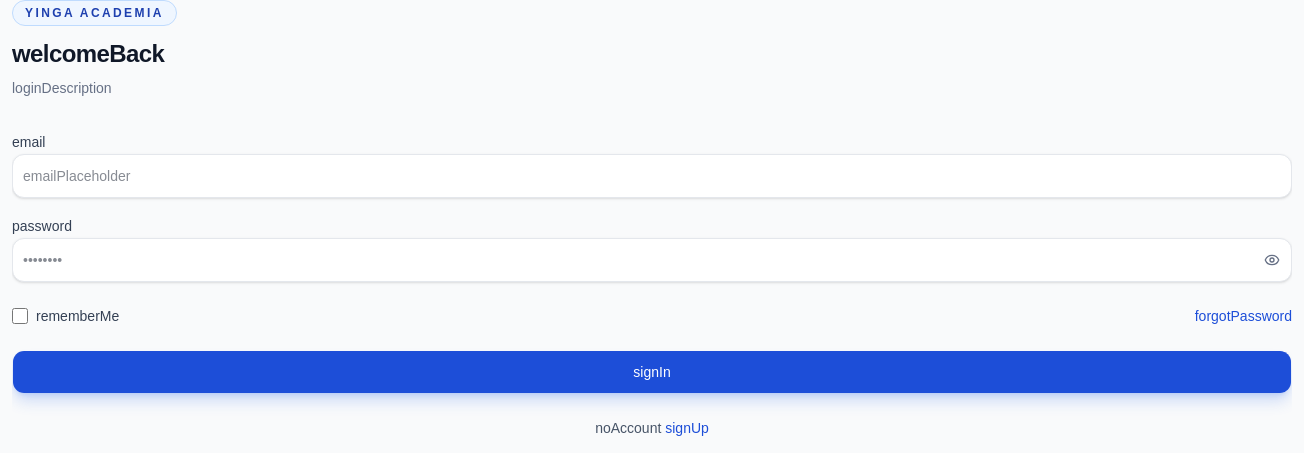
Test case: SignInForm › disables the submit button while a login request is in-flight
In the field with placeholder "emailPlaceholder": (652, 176) [12,154,1292,198], type "a@b.com"
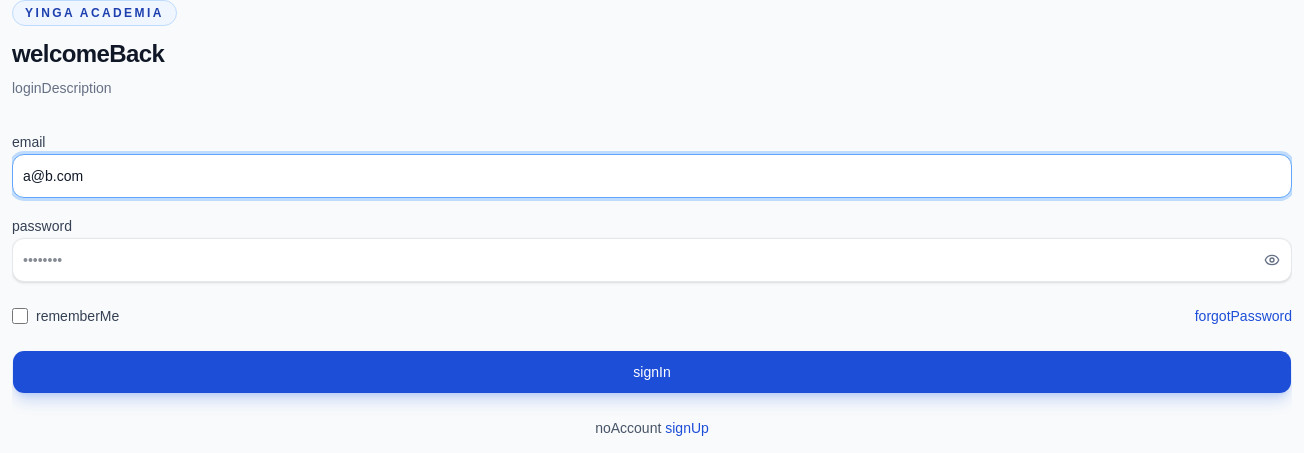
In the password field with placeholder "••••••••": (652, 260) [12,238,1292,282], type "pass"
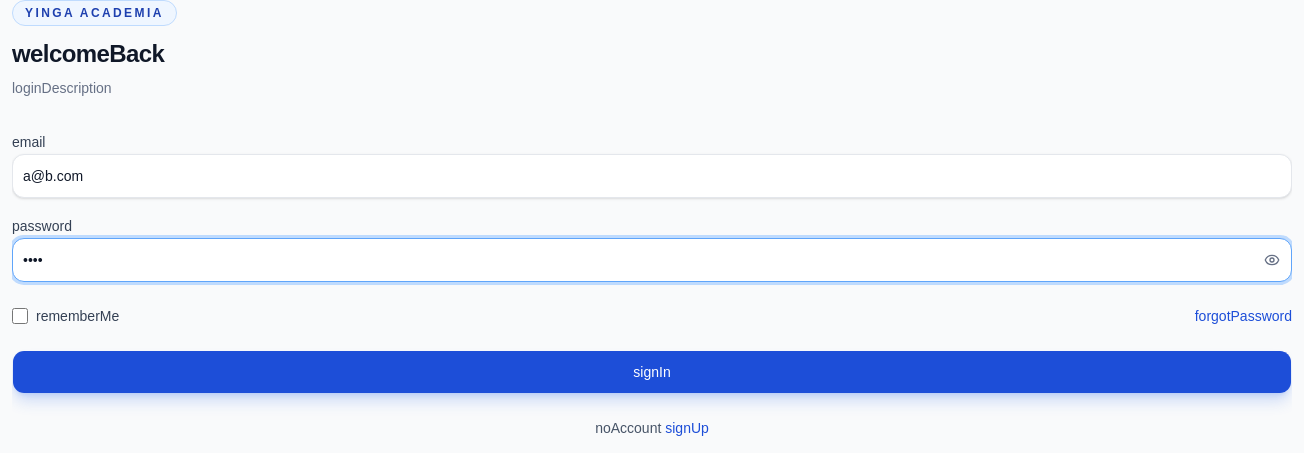
Submit the form "email password rememberMe forgotPassword signIn", box [12,130,1292,394]
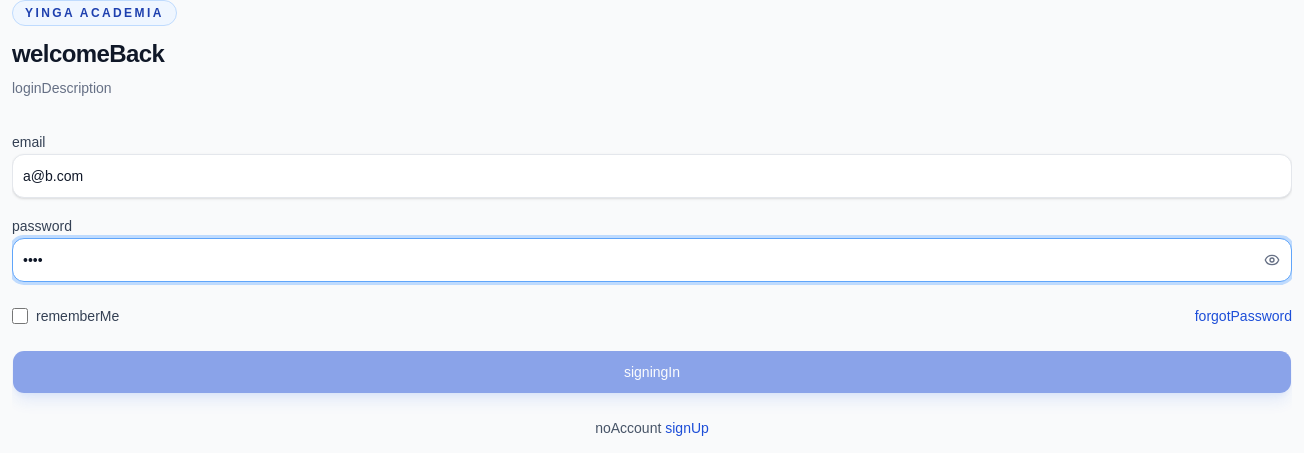
Expected: the button "signingIn" is disabled, [12,350,1292,394]
